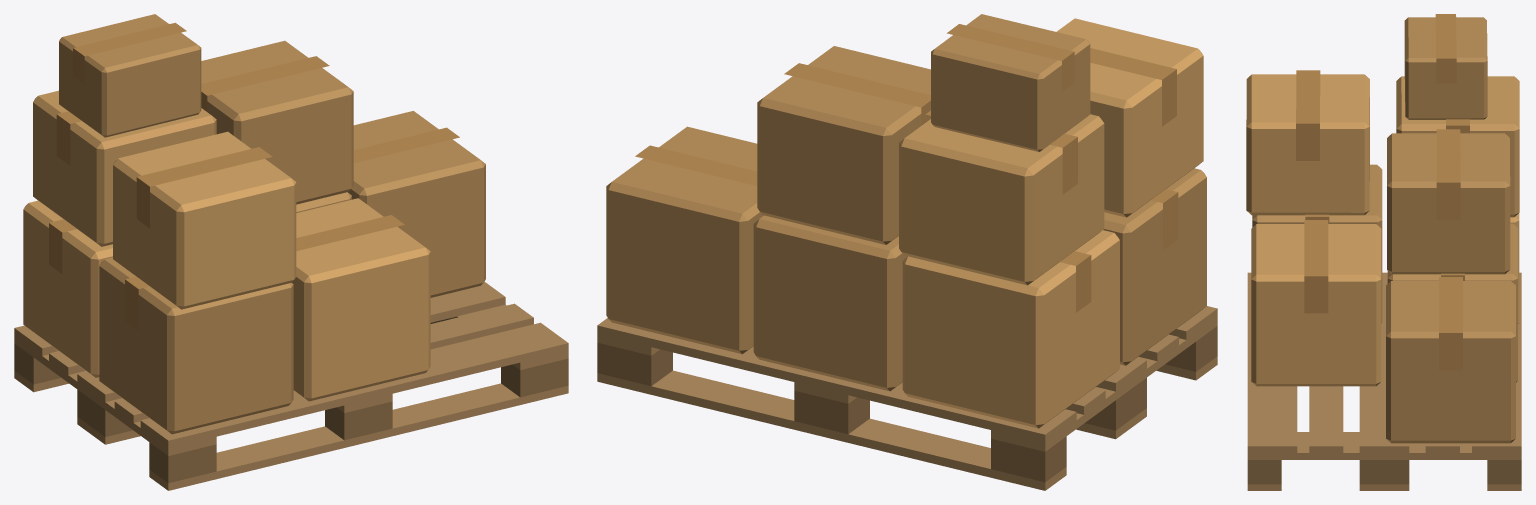
Rendered from pallet_boxes_c.glb.
The picture shows the model from 3 angles, left to right: view 1: azimuth 30°, elevation 25°; view 2: azimuth 150°, elevation 25°; view 3: azimuth 270°, elevation 25°; orthographic projection. The views are drawn at different scales.
Visible parts, largest first — view 1: PalletBoxesC; view 2: PalletBoxesC; view 3: PalletBoxesC.
Part boxes in pixels (bbox=[...]): PalletBoxesC: bbox=[14, 14, 568, 490]; PalletBoxesC: bbox=[597, 14, 1217, 490]; PalletBoxesC: bbox=[1246, 14, 1521, 490].
Size of what is drawn, in the model's own units: 1.2 by 1.01 by 0.8031.
